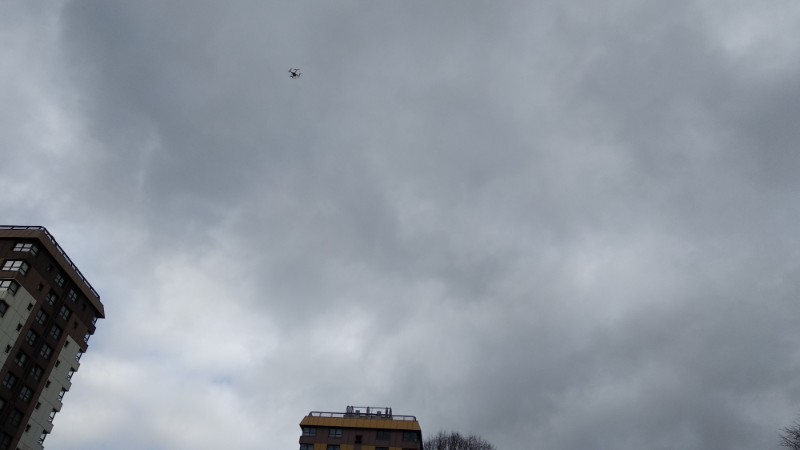drone: (288, 67, 301, 78)
